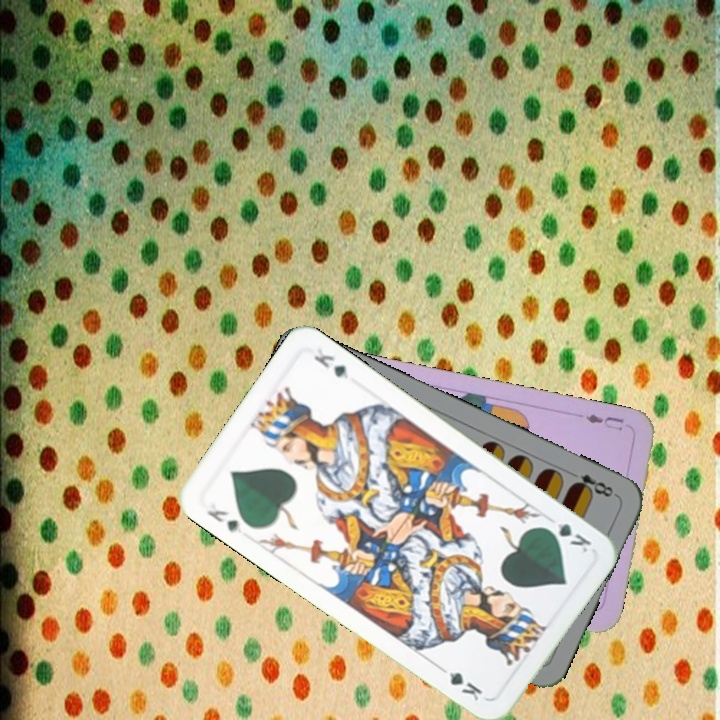E8: (564, 467, 620, 500)
EU: (581, 410, 627, 434)
GK: (539, 512, 594, 555), (203, 505, 245, 537)
